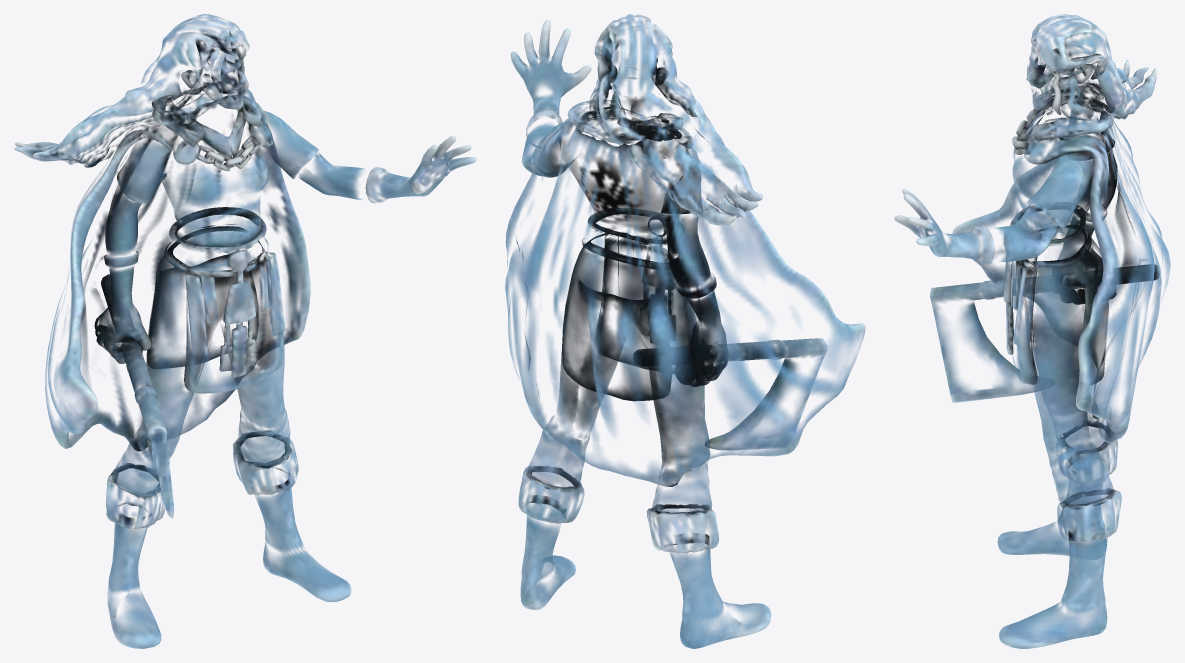
Rendered from MZ4250 - Sword Wraith Commander.glb.
3 renders of one model, left to right at view 1: azimuth 30°, elevation 25°; view 2: azimuth 150°, elevation 25°; view 3: azimuth 270°, elevation 25°, orthographic. The views are drawn at different scales.
Visible parts, largest first — view 1: Body.002; view 2: Body.002; view 3: Body.002.
Boxes of the visible parts, bbox=[...] form: Body.002: bbox=[14, 14, 476, 648]; Body.002: bbox=[505, 14, 865, 648]; Body.002: bbox=[894, 14, 1170, 648].
Size of the model in its own units: 63.69 by 95.43 by 41.53.
1 material, 1 textured.
